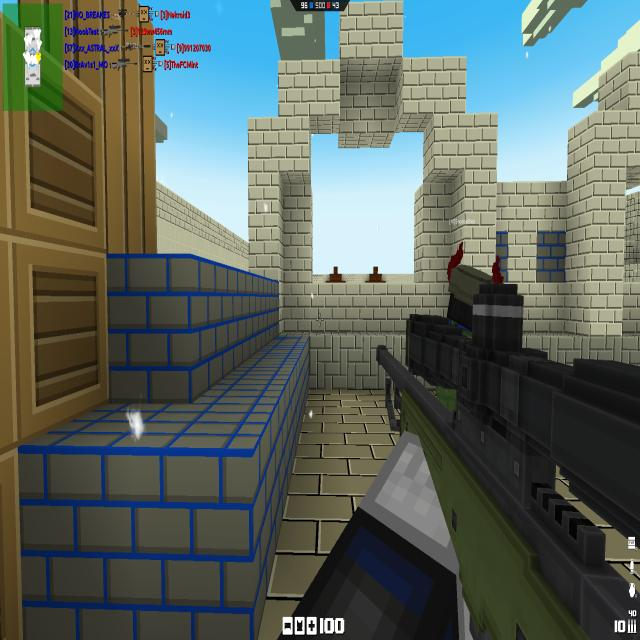player: (443, 246, 497, 331)
